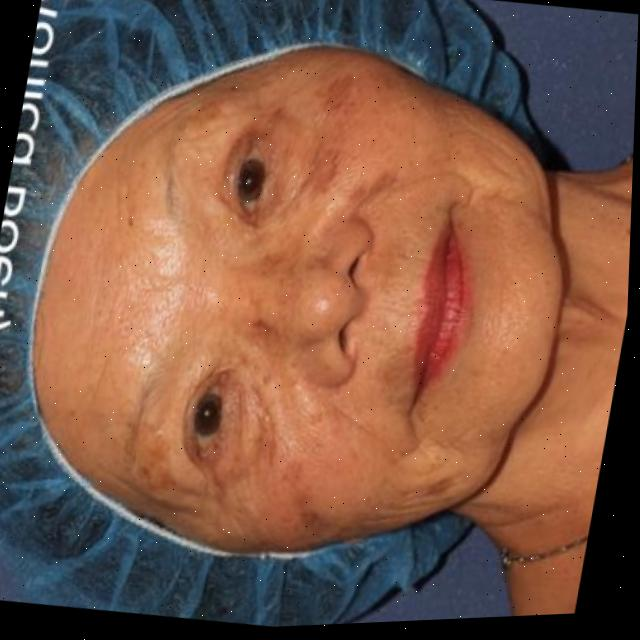Melasma: (252, 412, 368, 562), (281, 78, 375, 227), (252, 243, 304, 355)
